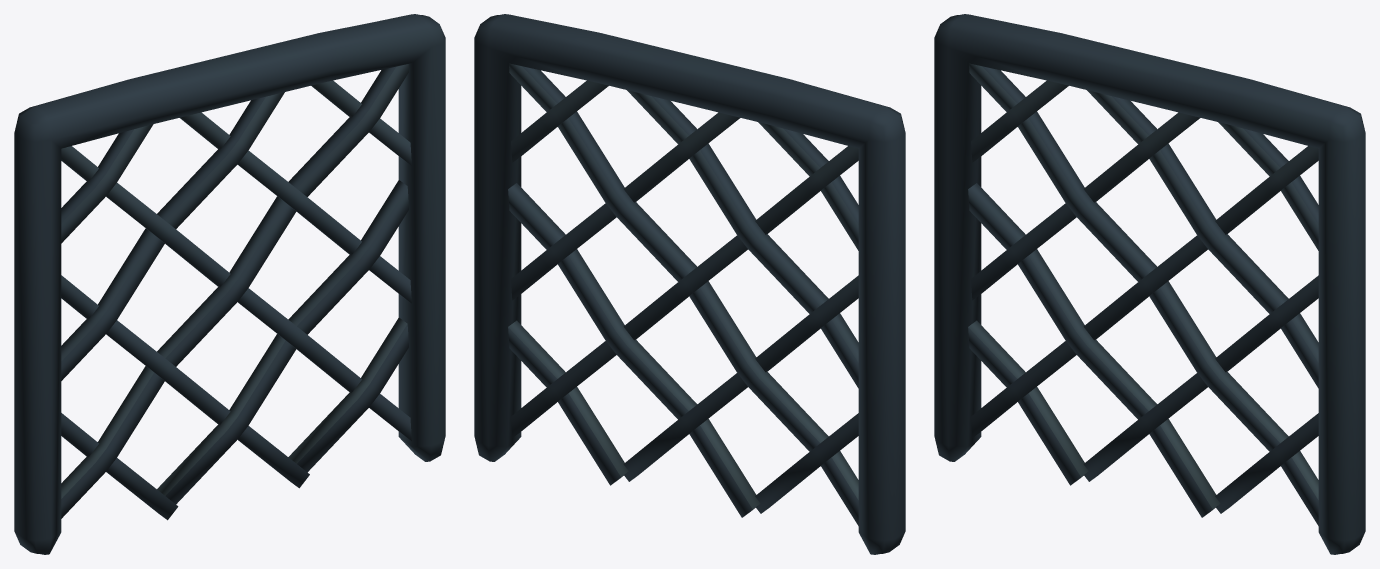
The model's file is Metal_Fence_Grid_Frame3.fbx.
The picture shows the model from 3 angles, left to right: view 1: azimuth 30°, elevation 25°; view 2: azimuth 150°, elevation 25°; view 3: azimuth 330°, elevation 25°; orthographic projection.
Visible parts, largest first — view 1: Metal_Fence_Grid_Frame3_LOD0; view 2: Metal_Fence_Grid_Frame3_LOD0; view 3: Metal_Fence_Grid_Frame3_LOD0.
Boxes of the visible parts, <box> form: Metal_Fence_Grid_Frame3_LOD0: <box>14,14,445,554</box>; Metal_Fence_Grid_Frame3_LOD0: <box>474,14,905,554</box>; Metal_Fence_Grid_Frame3_LOD0: <box>934,14,1365,554</box>.
Size of what is drawn, in the model's own units: 1.07 by 1.08 by 0.1127.
